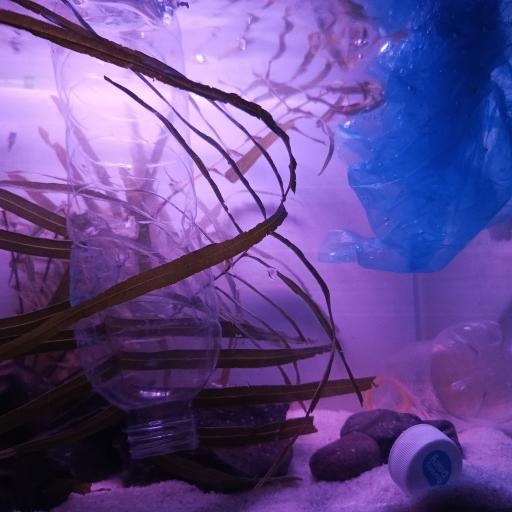bottle_cap: (390, 422, 464, 497)
plastic_bag: (308, 0, 512, 275)
plastic_bottle: (44, 0, 224, 458), (363, 318, 512, 430)
